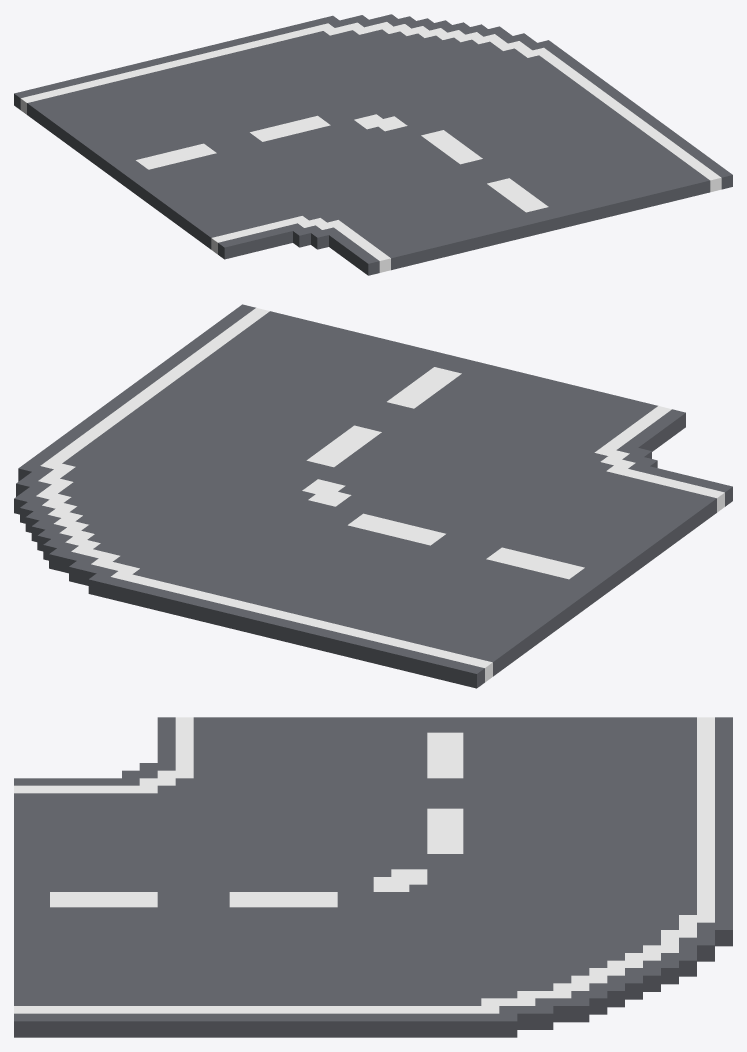
The model's file is road1.obj.
The picture shows the model from 3 angles, top to bottom: view 1: azimuth 30°, elevation 25°; view 2: azimuth 150°, elevation 25°; view 3: azimuth 270°, elevation 25°; orthographic projection. The views are drawn at different scales.
Size of the model in its own units: 4 by 0.1 by 4.
Materials: 1 (1 with a texture image).
